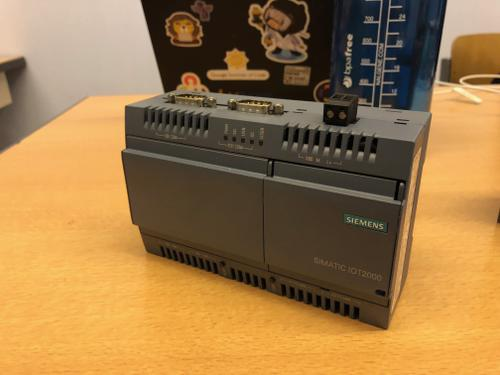device: (121, 90, 433, 331)
